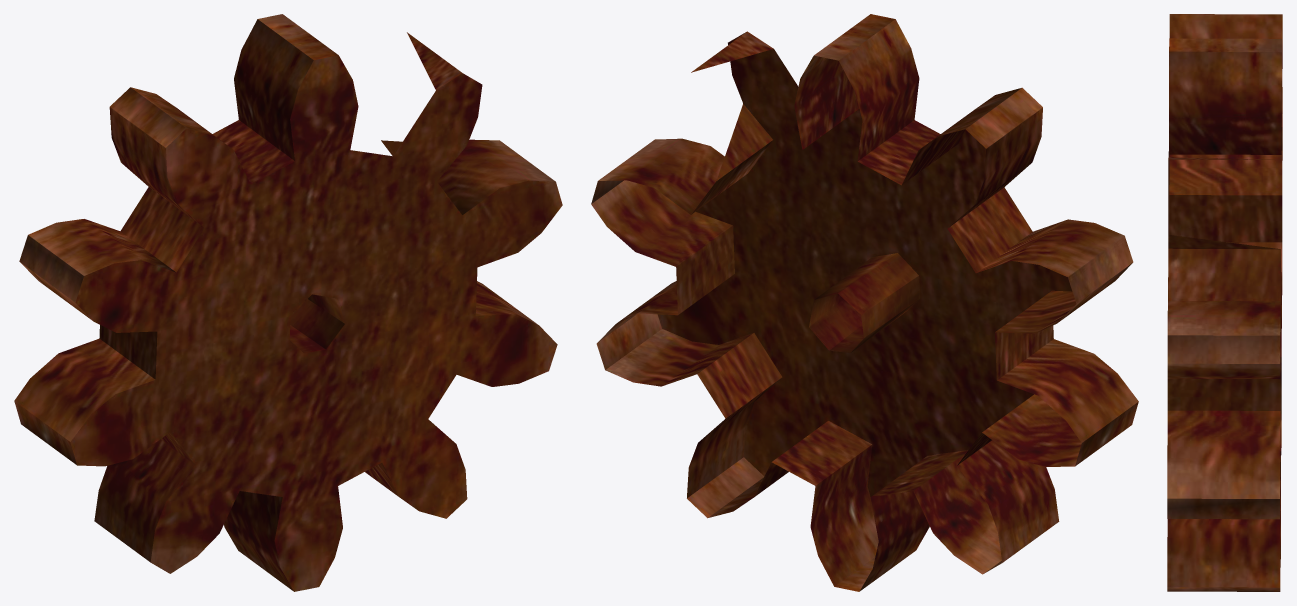
Rendered from rusty_gears_03.glb.
3 views of the same model, side by side, from view 1: azimuth 30°, elevation 25°; view 2: azimuth 150°, elevation 25°; view 3: azimuth 270°, elevation 25° (orthographic).
Parts seen in each view (by area): view 1: rusty_gears_03; view 2: rusty_gears_03; view 3: rusty_gears_03.
Part boxes in pixels (bbox=[...]): rusty_gears_03: bbox=[14, 14, 562, 591]; rusty_gears_03: bbox=[591, 14, 1138, 591]; rusty_gears_03: bbox=[1167, 14, 1282, 591].
Size of what is drawn, in the model's own units: 0.0633 by 0.0649 by 0.0129.
1 material, 1 textured.
